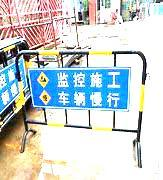sign: (21, 58, 138, 116)
